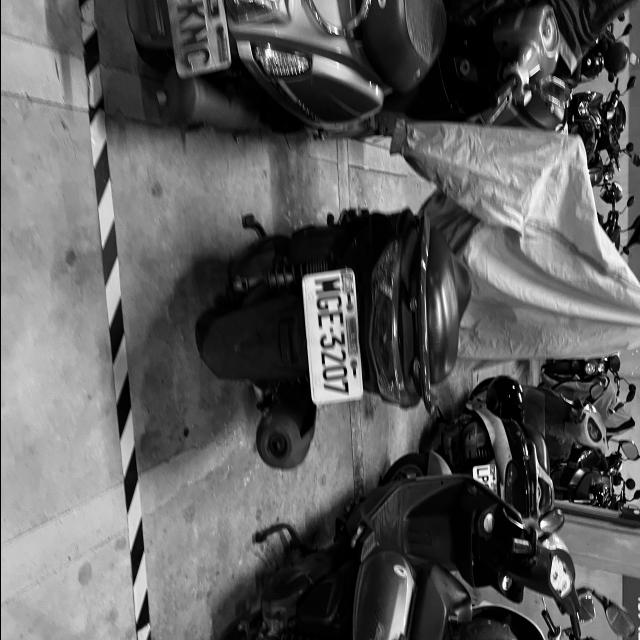-: (328, 326, 334, 334)
0: (321, 366, 347, 382)
2: (317, 348, 347, 370)
3: (317, 330, 347, 352)
7: (322, 380, 348, 396)
C: (182, 45, 213, 71)
E: (316, 310, 344, 330)
G: (314, 293, 342, 313)
K: (172, 0, 207, 27)
L: (475, 467, 488, 476)
M: (313, 277, 342, 297)
N: (177, 22, 210, 50)
P: (476, 475, 488, 483)
plate: (310, 274, 354, 402)
